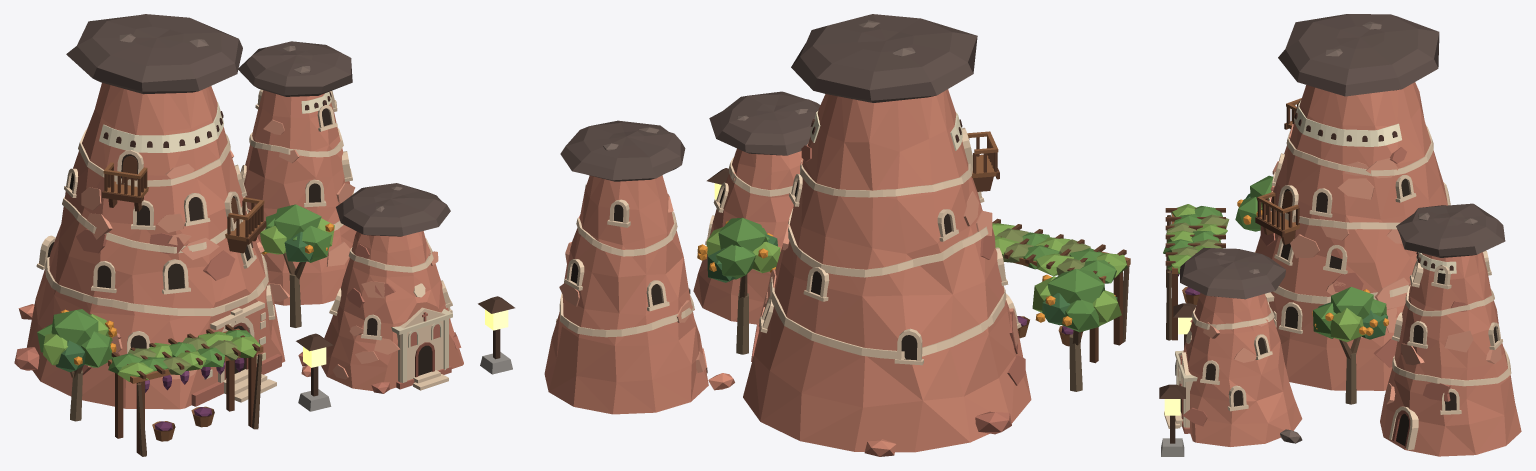
The model's file is fairy_chimney_town.glb.
The picture shows the model from 3 angles, left to right: view 1: azimuth 30°, elevation 25°; view 2: azimuth 150°, elevation 25°; view 3: azimuth 270°, elevation 25°; orthographic projection. The views are drawn at different scales.
Parts seen in each view (by area): view 1: fairy_chimney_town_FC_Tuff, fairy_chimney_town_FC_Basalt, fairy_chimney_town_FC_TuffCream, fairy_chimney_town_FC_LeafFresh, fairy_chimney_town_FC_TuffLight, fairy_chimney_town_FC_Wood, fairy_chimney_town_FC_TuffShade, fairy_chimney_town_FC_LeafFreshLight, fairy_chimney_town_FC_Ivory, fairy_chimney_town_FC_Dark, fairy_chimney_town_FC_WoodLight, fairy_chimney_town_FC_StoneLight (+8 smaller); view 2: fairy_chimney_town_FC_Tuff, fairy_chimney_town_FC_Basalt, fairy_chimney_town_FC_TuffCream, fairy_chimney_town_FC_LeafFresh, fairy_chimney_town_FC_LeafFreshLight, fairy_chimney_town_FC_Wood, fairy_chimney_town_FC_TuffLight, fairy_chimney_town_FC_TuffShade, fairy_chimney_town_FC_Bark, fairy_chimney_town_FC_Dark, fairy_chimney_town_FC_OliveLight, fairy_chimney_town_FC_WoodLight (+4 smaller); view 3: fairy_chimney_town_FC_Tuff, fairy_chimney_town_FC_Basalt, fairy_chimney_town_FC_TuffCream, fairy_chimney_town_FC_TuffLight, fairy_chimney_town_FC_LeafFresh, fairy_chimney_town_FC_Wood, fairy_chimney_town_FC_Ivory, fairy_chimney_town_FC_TuffShade, fairy_chimney_town_FC_Dark, fairy_chimney_town_FC_LeafFreshLight, fairy_chimney_town_FC_WoodLight, fairy_chimney_town_WarmMini_wooddark (+10 smaller).
Part boxes in pixels (box(x1,y1,x2,y2)): fairy_chimney_town_FC_Tuff: box(18, 82, 463, 409); fairy_chimney_town_FC_Basalt: box(66, 14, 450, 235); fairy_chimney_town_FC_TuffCream: box(36, 89, 452, 402); fairy_chimney_town_FC_LeafFresh: box(37, 204, 331, 373); fairy_chimney_town_FC_TuffLight: box(81, 119, 438, 379); fairy_chimney_town_FC_Wood: box(102, 166, 266, 454); fairy_chimney_town_FC_TuffShade: box(14, 229, 461, 406); fairy_chimney_town_FC_LeafFreshLight: box(43, 218, 334, 381); fairy_chimney_town_FC_Ivory: box(99, 92, 331, 152); fairy_chimney_town_FC_Dark: box(47, 108, 377, 348); fairy_chimney_town_FC_WoodLight: box(103, 162, 264, 441); fairy_chimney_town_FC_StoneLight: box(204, 309, 452, 382); fairy_chimney_town_FC_Tuff: box(544, 89, 1031, 456); fairy_chimney_town_FC_Basalt: box(560, 14, 977, 180); fairy_chimney_town_FC_TuffCream: box(556, 127, 1021, 365); fairy_chimney_town_FC_LeafFresh: box(716, 217, 1116, 332); fairy_chimney_town_FC_LeafFreshLight: box(706, 223, 1127, 325); fairy_chimney_town_FC_Wood: box(968, 137, 1126, 363); fairy_chimney_town_FC_TuffLight: box(559, 143, 1018, 373); fairy_chimney_town_FC_TuffShade: box(578, 145, 1025, 434); fairy_chimney_town_FC_Bark: box(736, 293, 1082, 391); fairy_chimney_town_FC_Dark: box(570, 180, 951, 360); fairy_chimney_town_FC_OliveLight: box(996, 228, 1090, 275); fairy_chimney_town_FC_WoodLight: box(967, 131, 1130, 346); fairy_chimney_town_FC_Tuff: box(1183, 82, 1521, 456); fairy_chimney_town_FC_Basalt: box(1180, 14, 1505, 299); fairy_chimney_town_FC_TuffCream: box(1164, 125, 1511, 449); fairy_chimney_town_FC_TuffLight: box(1203, 124, 1501, 404); fairy_chimney_town_FC_LeafFresh: box(1163, 175, 1386, 338); fairy_chimney_town_FC_Wood: box(1165, 104, 1299, 340); fairy_chimney_town_FC_Ivory: box(1294, 100, 1456, 273); fairy_chimney_town_FC_TuffShade: box(1178, 147, 1467, 433); fairy_chimney_town_FC_Dark: box(1205, 178, 1497, 410); fairy_chimney_town_FC_LeafFreshLight: box(1166, 204, 1365, 341); fairy_chimney_town_FC_WoodLight: box(1172, 98, 1301, 304); fairy_chimney_town_WarmMini_wooddark: box(1159, 303, 1196, 443).
Size of the model in its own units: 3.95 by 2.91 by 3.13.
